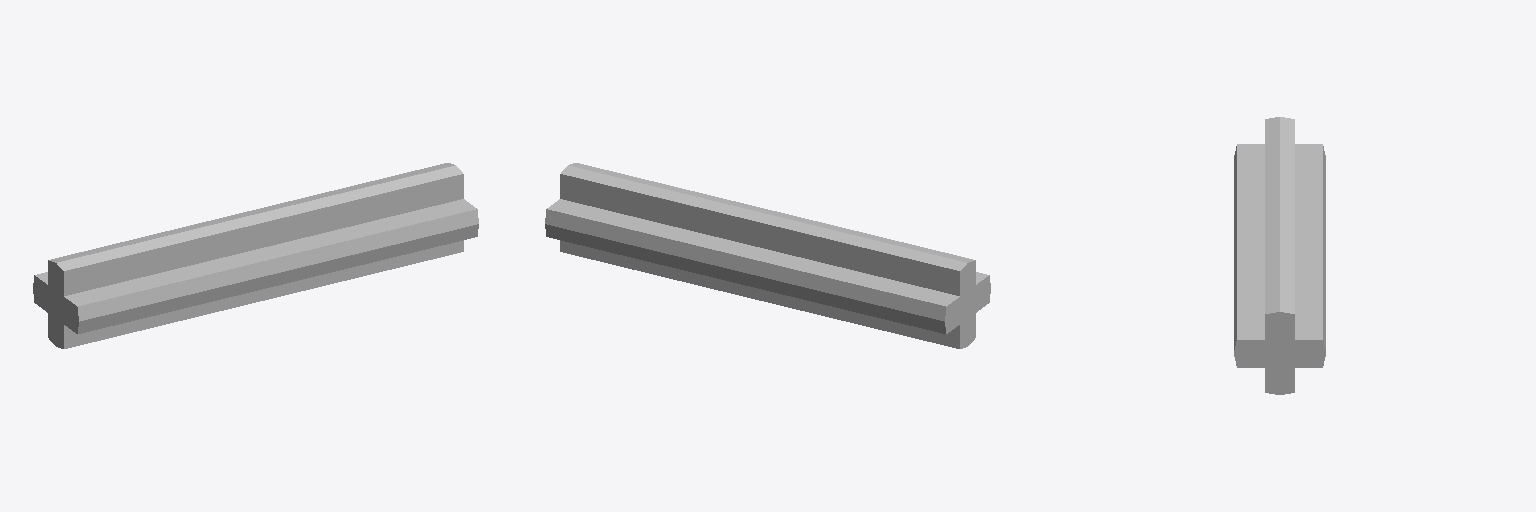
The model's file is Piece019.obj.
3 renders of one model, left to right at view 1: azimuth 30°, elevation 25°; view 2: azimuth 150°, elevation 25°; view 3: azimuth 270°, elevation 25°, orthographic.
Parts seen in each view (by area): view 1: Piece000; view 2: Piece000; view 3: Piece000.
Part boxes in pixels (bbox=[...]): Piece000: bbox=[33, 163, 478, 348]; Piece000: bbox=[545, 163, 990, 348]; Piece000: bbox=[1234, 117, 1325, 394].
Size of the model in its own units: 60 by 12 by 12.